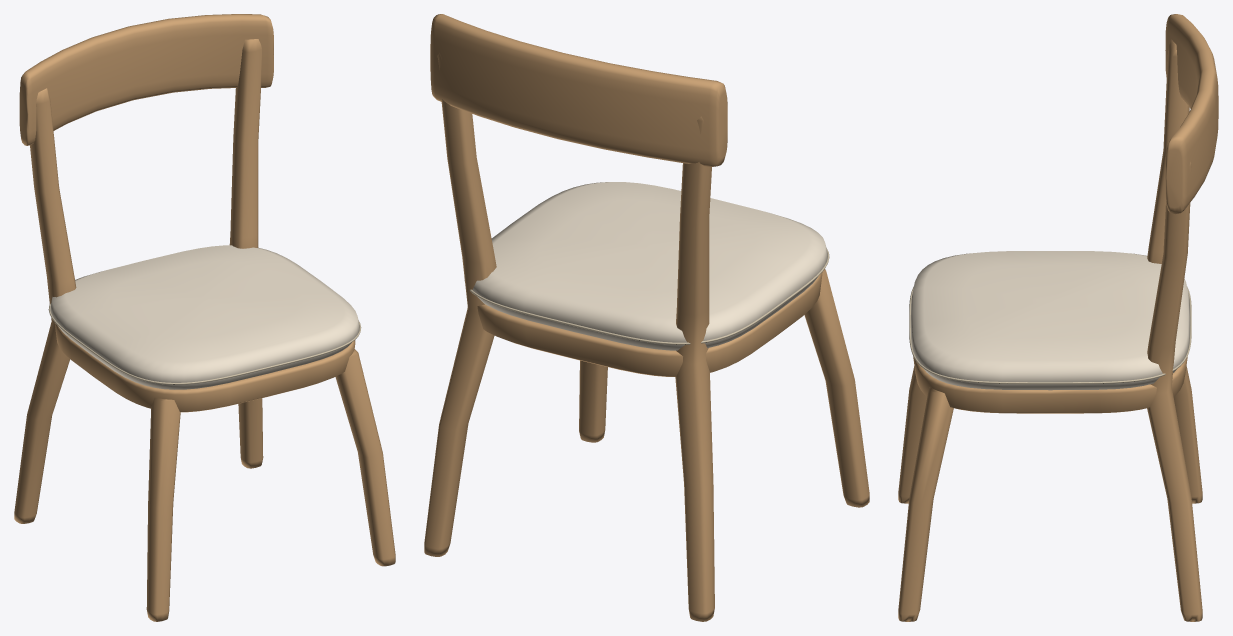
File: family-maple-dining-chair-v1.glb
3 views of the same model, side by side, from view 1: azimuth 30°, elevation 25°; view 2: azimuth 150°, elevation 25°; view 3: azimuth 270°, elevation 25° (orthographic). The views are drawn at different scales.
Parts seen in each view (by area): view 1: Oatmeal linen cushion, Bent maple crest, Steam bent stile (×2), Tapered foreleg (×2), Maple saddle rim, Linen piping; view 2: Oatmeal linen cushion, Steam bent stile (×2), Bent maple crest, Tapered foreleg (×2), Maple saddle rim, Linen piping; view 3: Oatmeal linen cushion, Steam bent stile (×2), Tapered foreleg (×2), Bent maple crest, Maple saddle rim, Linen piping.
Part boxes in pixels (x1,y1,x2,y2): Oatmeal linen cushion: (50,245,359,389); Bent maple crest: (19,14,273,145); Steam bent stile (×2): (14,39,263,523); Tapered foreleg (×2): (146,349,395,621); Maple saddle rim: (54,322,355,412); Linen piping: (48,303,361,384); Oatmeal linen cushion: (472,182,827,350); Steam bent stile (×2): (424,52,714,621); Bent maple crest: (430,14,727,166); Tapered foreleg (×2): (579,269,869,507); Maple saddle rim: (477,272,822,376); Linen piping: (464,248,829,344); Oatmeal linen cushion: (910,251,1190,390); Steam bent stile (×2): (1147,39,1202,621); Tapered foreleg (×2): (898,366,953,621); Bent maple crest: (1165,14,1218,214); Maple saddle rim: (913,356,1187,413); Linen piping: (909,286,1191,384).
Bounding box in the file's own units: 0.474 × 0.842 × 0.499.
